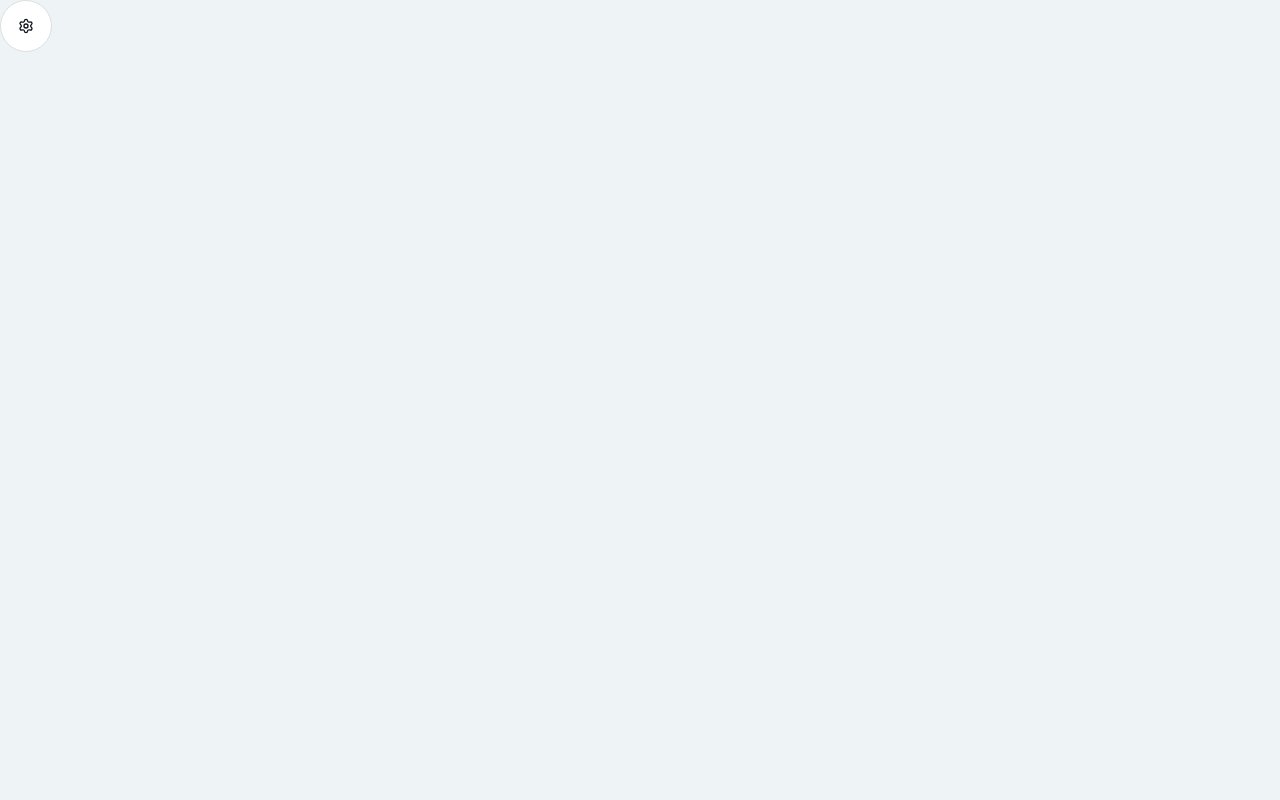
it: unconfigured policy has no active interval and history loads only when opened
Click the button named "Monitoring Settings" at x=26, y=26, box [0, 0, 52, 52]
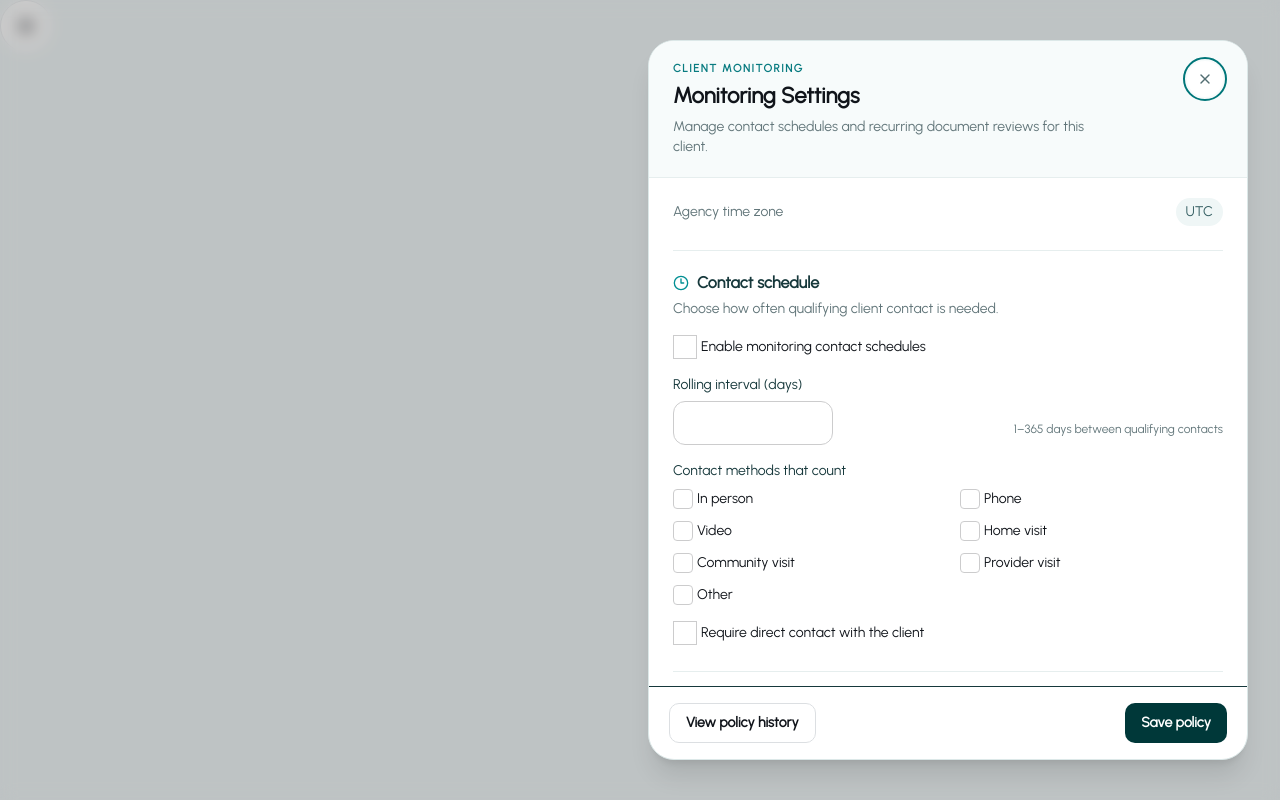
Check: the number field labelled "Rolling interval (days)" is not empty, box [673, 401, 833, 445]
Check: the footer "Save policy" is shown, box [649, 686, 1247, 759]
Click the button "View policy history" at x=742, y=723, box [669, 703, 816, 743]
(page scrolled)
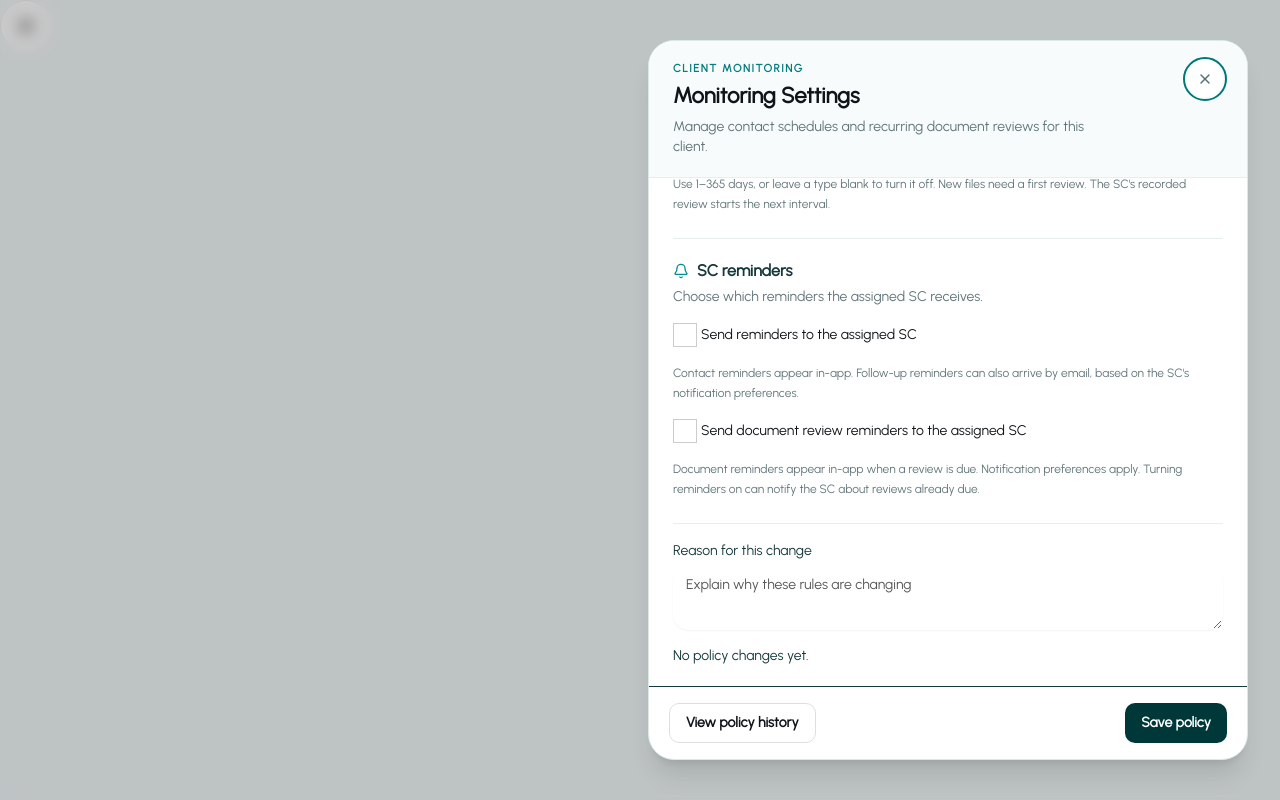
Check: the text "No policy changes yet." is shown, box [673, 647, 809, 664]
